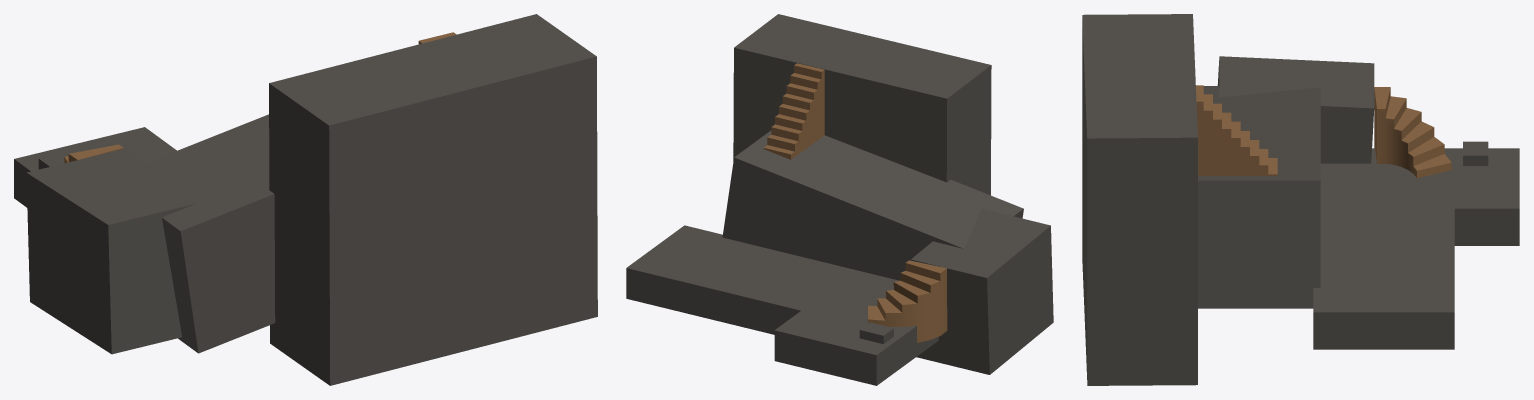
Rendered from TownBuild.fbx.
The picture shows the model from 3 angles, left to right: view 1: azimuth 30°, elevation 25°; view 2: azimuth 150°, elevation 25°; view 3: azimuth 270°, elevation 25°; orthographic projection. The views are drawn at different scales.
Visible parts, largest first — view 1: Block__3_, Block__1_, Block, Floor__1_; view 2: Block__3_, Block, Block__1_, Floor, Floor__1_, Stairs, Stairs__1_, Building__20_; view 3: Block__3_, Block, Floor, Floor__1_, Block__1_, Stairs, Stairs__1_, Building__20_.
Part boxes in pixels (left/top/right/bottom): Block__3_: left=269, top=14, right=597, bottom=385; Block__1_: left=26, top=149, right=196, bottom=354; Block: left=112, top=114, right=275, bottom=353; Floor__1_: left=14, top=127, right=176, bottom=207; Block__3_: left=733, top=14, right=991, bottom=195; Block: left=722, top=130, right=1023, bottom=280; Block__1_: left=911, top=208, right=1053, bottom=374; Floor: left=626, top=225, right=856, bottom=334; Floor__1_: left=774, top=270, right=938, bottom=385; Stairs: left=868, top=260, right=947, bottom=342; Stairs__1_: left=763, top=63, right=824, bottom=159; Building__20_: left=859, top=322, right=893, bottom=343; Block__3_: left=1082, top=14, right=1197, bottom=385; Block: left=1198, top=86, right=1320, bottom=308; Floor: left=1313, top=208, right=1454, bottom=349; Floor__1_: left=1320, top=148, right=1519, bottom=245; Block__1_: left=1217, top=56, right=1374, bottom=163; Stairs: left=1374, top=87, right=1451, bottom=178; Stairs__1_: left=1196, top=85, right=1277, bottom=175; Building__20_: left=1463, top=141, right=1488, bottom=165.
Bounding box in the file's own units: 5006 × 2985 × 4769.
